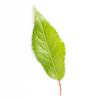Cherry leaf: (28, 6, 73, 94)
